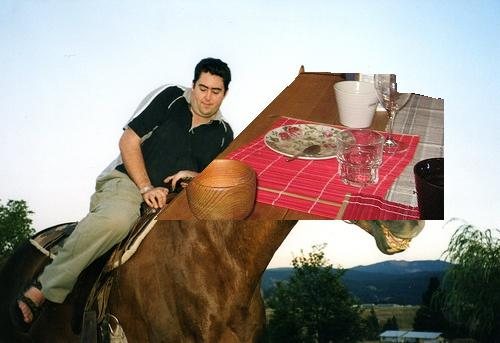tampered: (154, 73, 444, 220)
